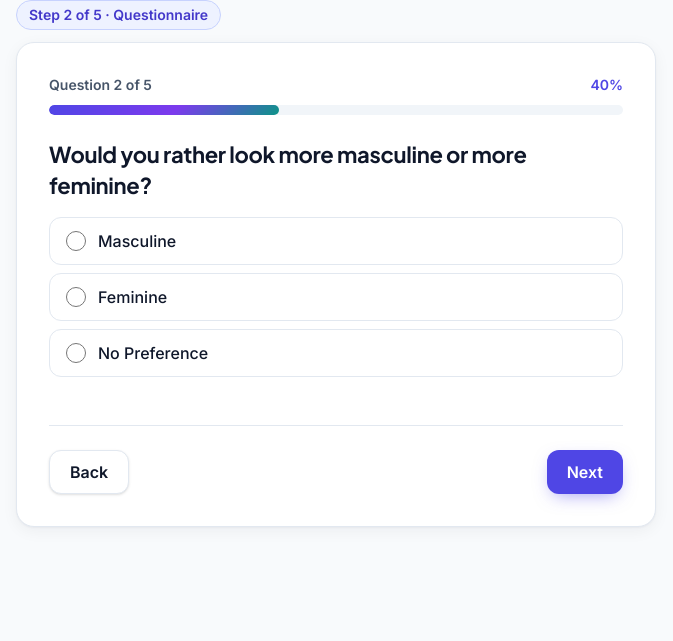
Test: Question types › single choice is a radio group with one selection
The image size is (673, 641).
Click the radio button with test id "question-option-masculine". click: (76, 241)
box: 66,231 -> 86,251
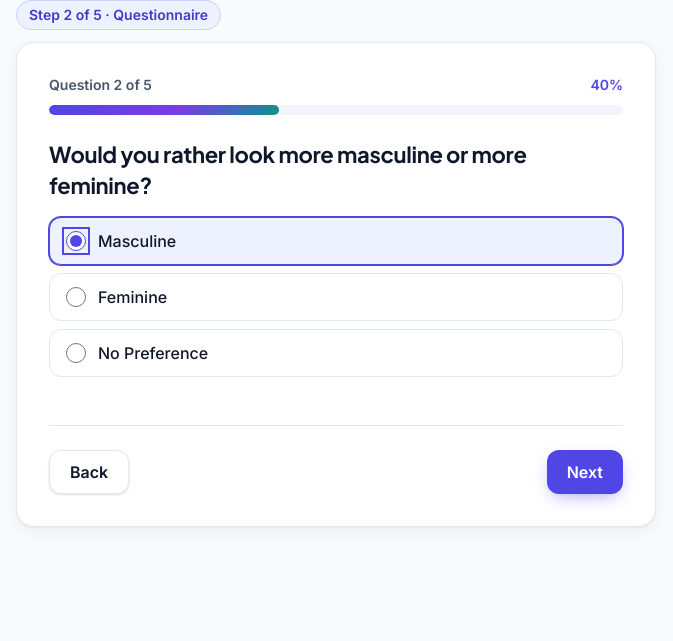
Click the radio button with test id "question-option-no_preference". click: (76, 353)
box: 66,343 -> 86,363
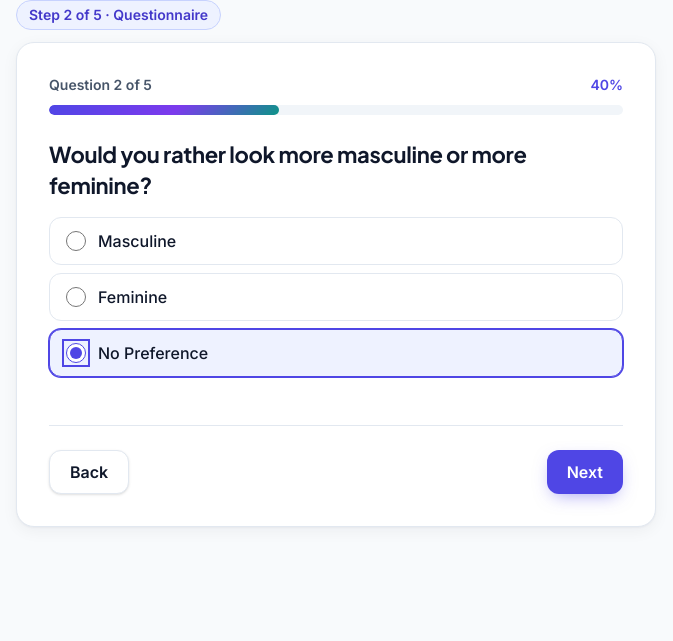
Now the radio button with test id "question-option-masculine" is not checked, box 66,231 -> 86,251
Now the radio button with test id "question-option-no_preference" is checked, box 66,343 -> 86,363
Click the button with test id "wizard-next-button". click: (585, 472)
box: 547,450 -> 623,494
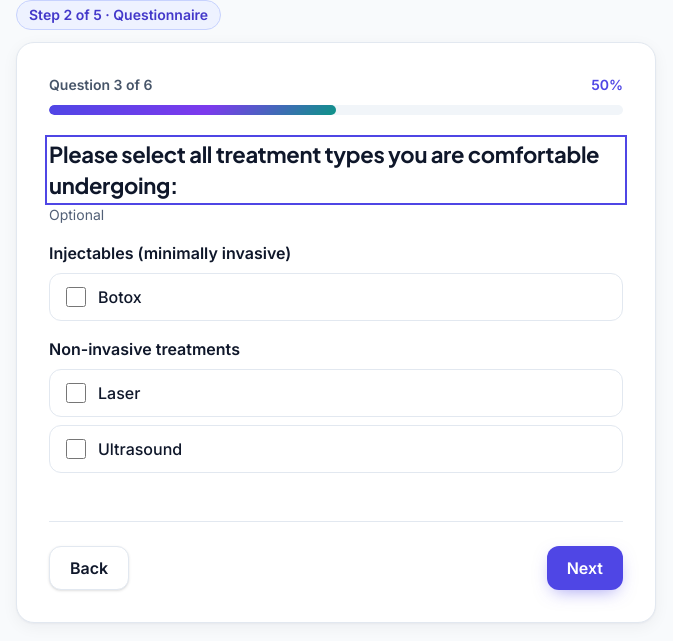
Now the text with test id "wizard-position" shows "of 6", box 49,75 -> 152,95
